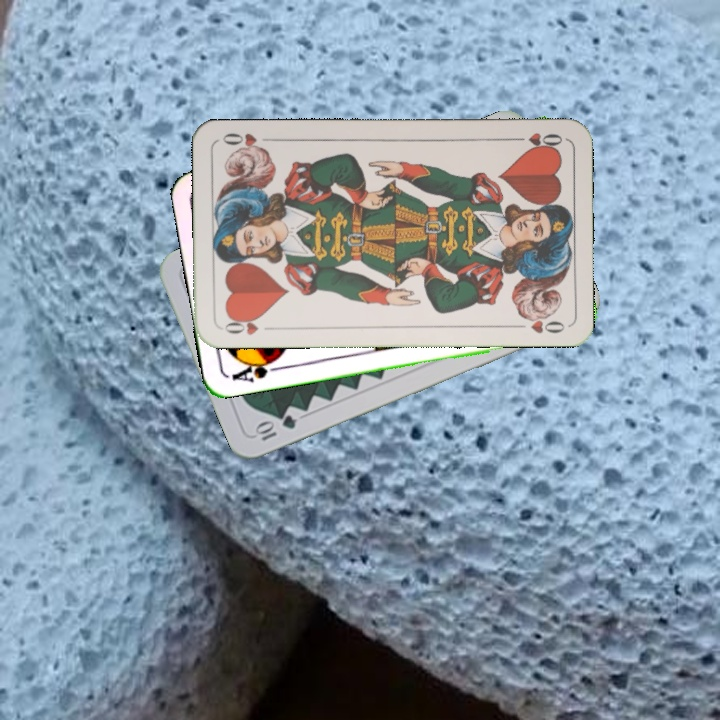G10: (251, 411, 299, 444)
HO: (220, 313, 277, 338), (507, 128, 565, 152)
SA: (228, 352, 286, 385)
